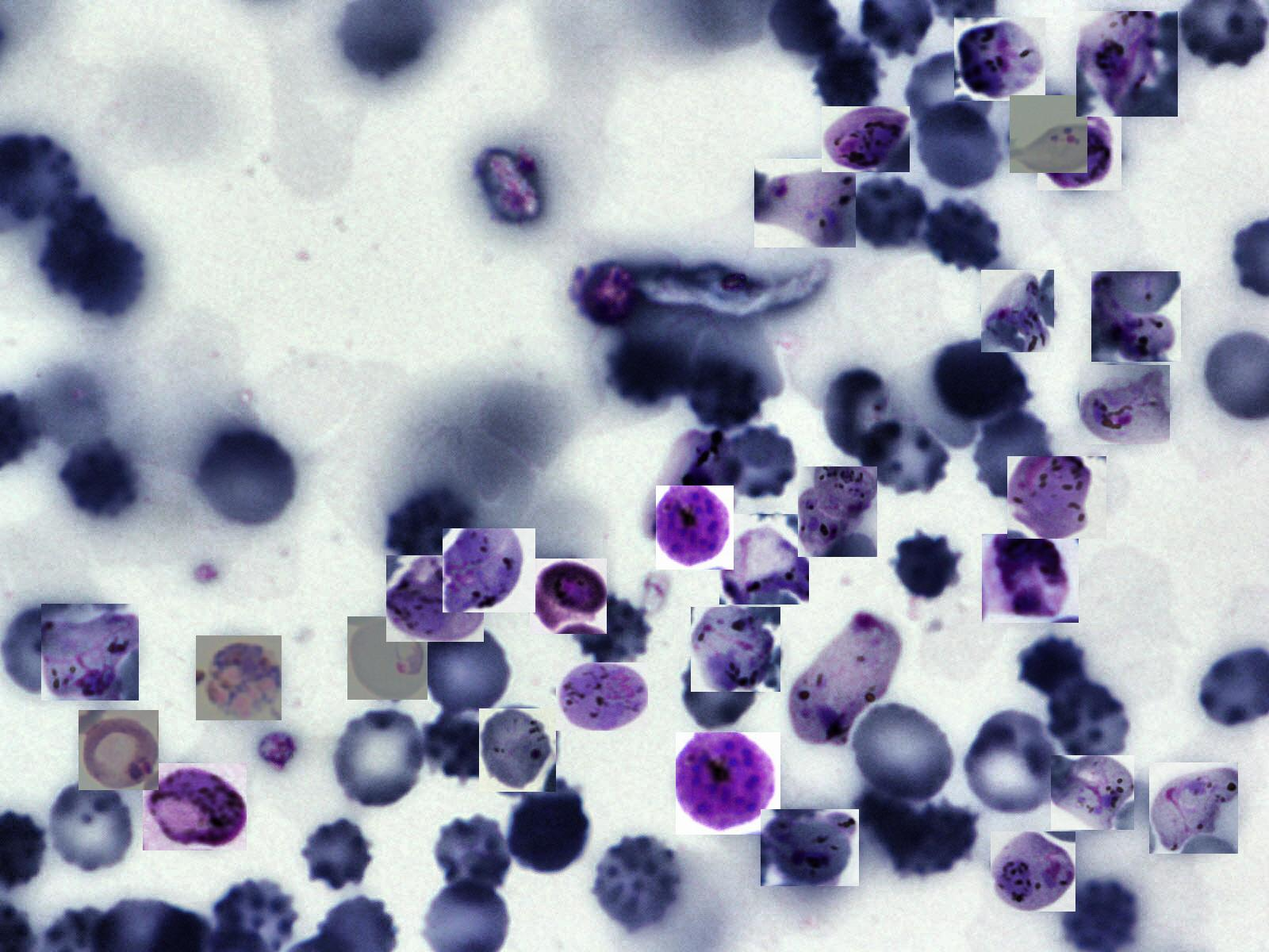Infected: (789, 613, 904, 748), (1076, 11, 1178, 117), (676, 732, 780, 835), (41, 604, 139, 701), (646, 430, 730, 539), (754, 159, 856, 248), (143, 763, 247, 850), (982, 535, 1079, 624), (386, 555, 484, 642), (1007, 456, 1106, 539), (1091, 271, 1181, 362), (719, 514, 809, 605), (1149, 762, 1238, 854), (443, 528, 535, 612), (954, 17, 1045, 101), (691, 608, 780, 693), (761, 809, 859, 886), (196, 635, 282, 720), (798, 466, 877, 557), (1079, 365, 1170, 444), (991, 831, 1075, 912), (347, 616, 427, 700), (656, 486, 734, 570), (479, 709, 556, 793), (79, 711, 159, 791), (556, 662, 648, 731), (1037, 115, 1121, 190), (1051, 755, 1134, 830), (1010, 95, 1087, 173), (981, 270, 1054, 352), (822, 106, 910, 172), (530, 559, 607, 634)
Uninfected: (325, 705, 431, 813), (848, 700, 957, 804), (195, 428, 299, 532), (40, 776, 140, 877), (964, 712, 1061, 816), (416, 621, 516, 719), (590, 836, 686, 933), (931, 336, 1031, 425), (911, 101, 1004, 194), (854, 415, 953, 500), (971, 409, 1058, 505), (889, 793, 981, 882), (0, 608, 92, 696), (903, 50, 994, 138), (56, 436, 146, 524), (677, 643, 763, 733), (819, 365, 895, 462), (508, 795, 594, 880), (383, 486, 473, 565), (1046, 676, 1129, 761), (844, 175, 930, 255), (431, 816, 514, 898), (568, 591, 655, 668), (710, 428, 802, 499), (812, 38, 884, 128), (1012, 465, 1102, 529), (425, 708, 500, 784), (929, 197, 1005, 270), (301, 817, 376, 889), (894, 532, 958, 599), (1018, 635, 1087, 697)
